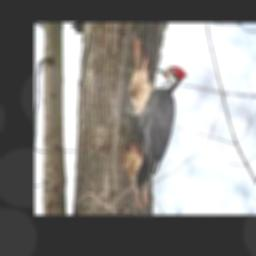Woodpecker: (127, 66, 186, 205)
